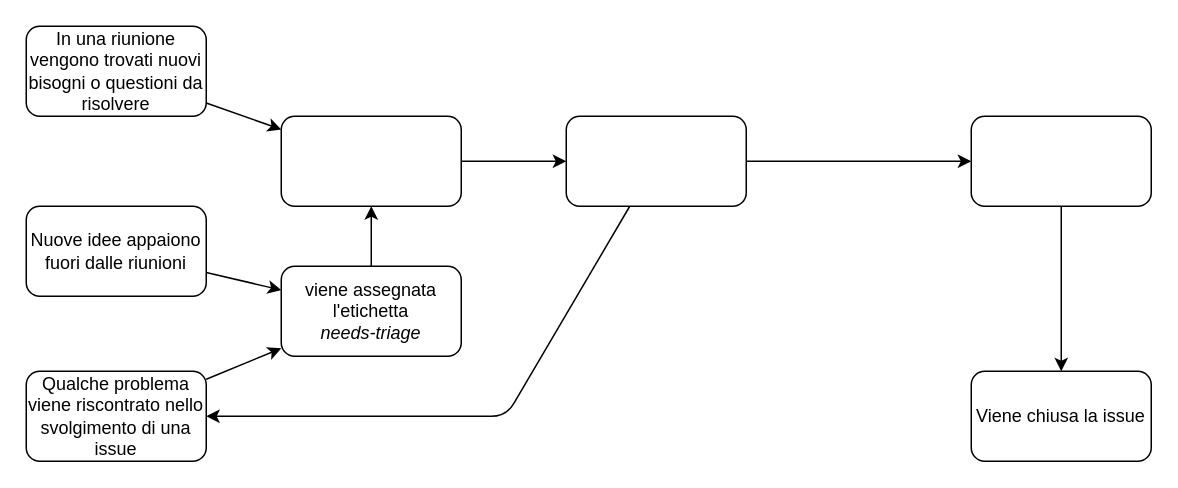
The diagram is 1178 pixels wide and 488 high, and some of its shapes have lost their labels. The shapes that lost their labels are listed below. From the top down, each one's centre as x and y in pixels, then its label:
point (370, 160): Viene aperta una issue
point (655, 160): Si svolge quanto richiesto nella issue
point (1060, 160): È compiuto quanto richiesto nella issue
